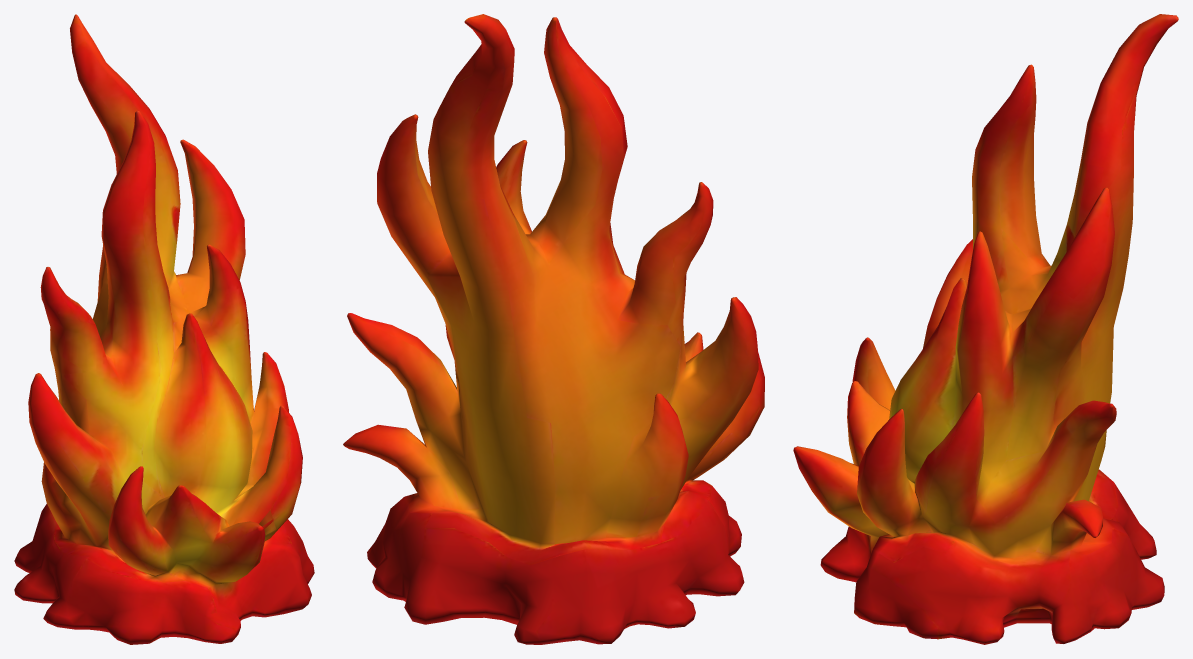
The model's file is fire.glb.
3 views of the same model, side by side, from view 1: azimuth 30°, elevation 25°; view 2: azimuth 150°, elevation 25°; view 3: azimuth 270°, elevation 25° (orthographic). The views are drawn at different scales.
Size of the model in its own units: 0.542 by 0.9526 by 0.5952.
1 material, 1 textured.
